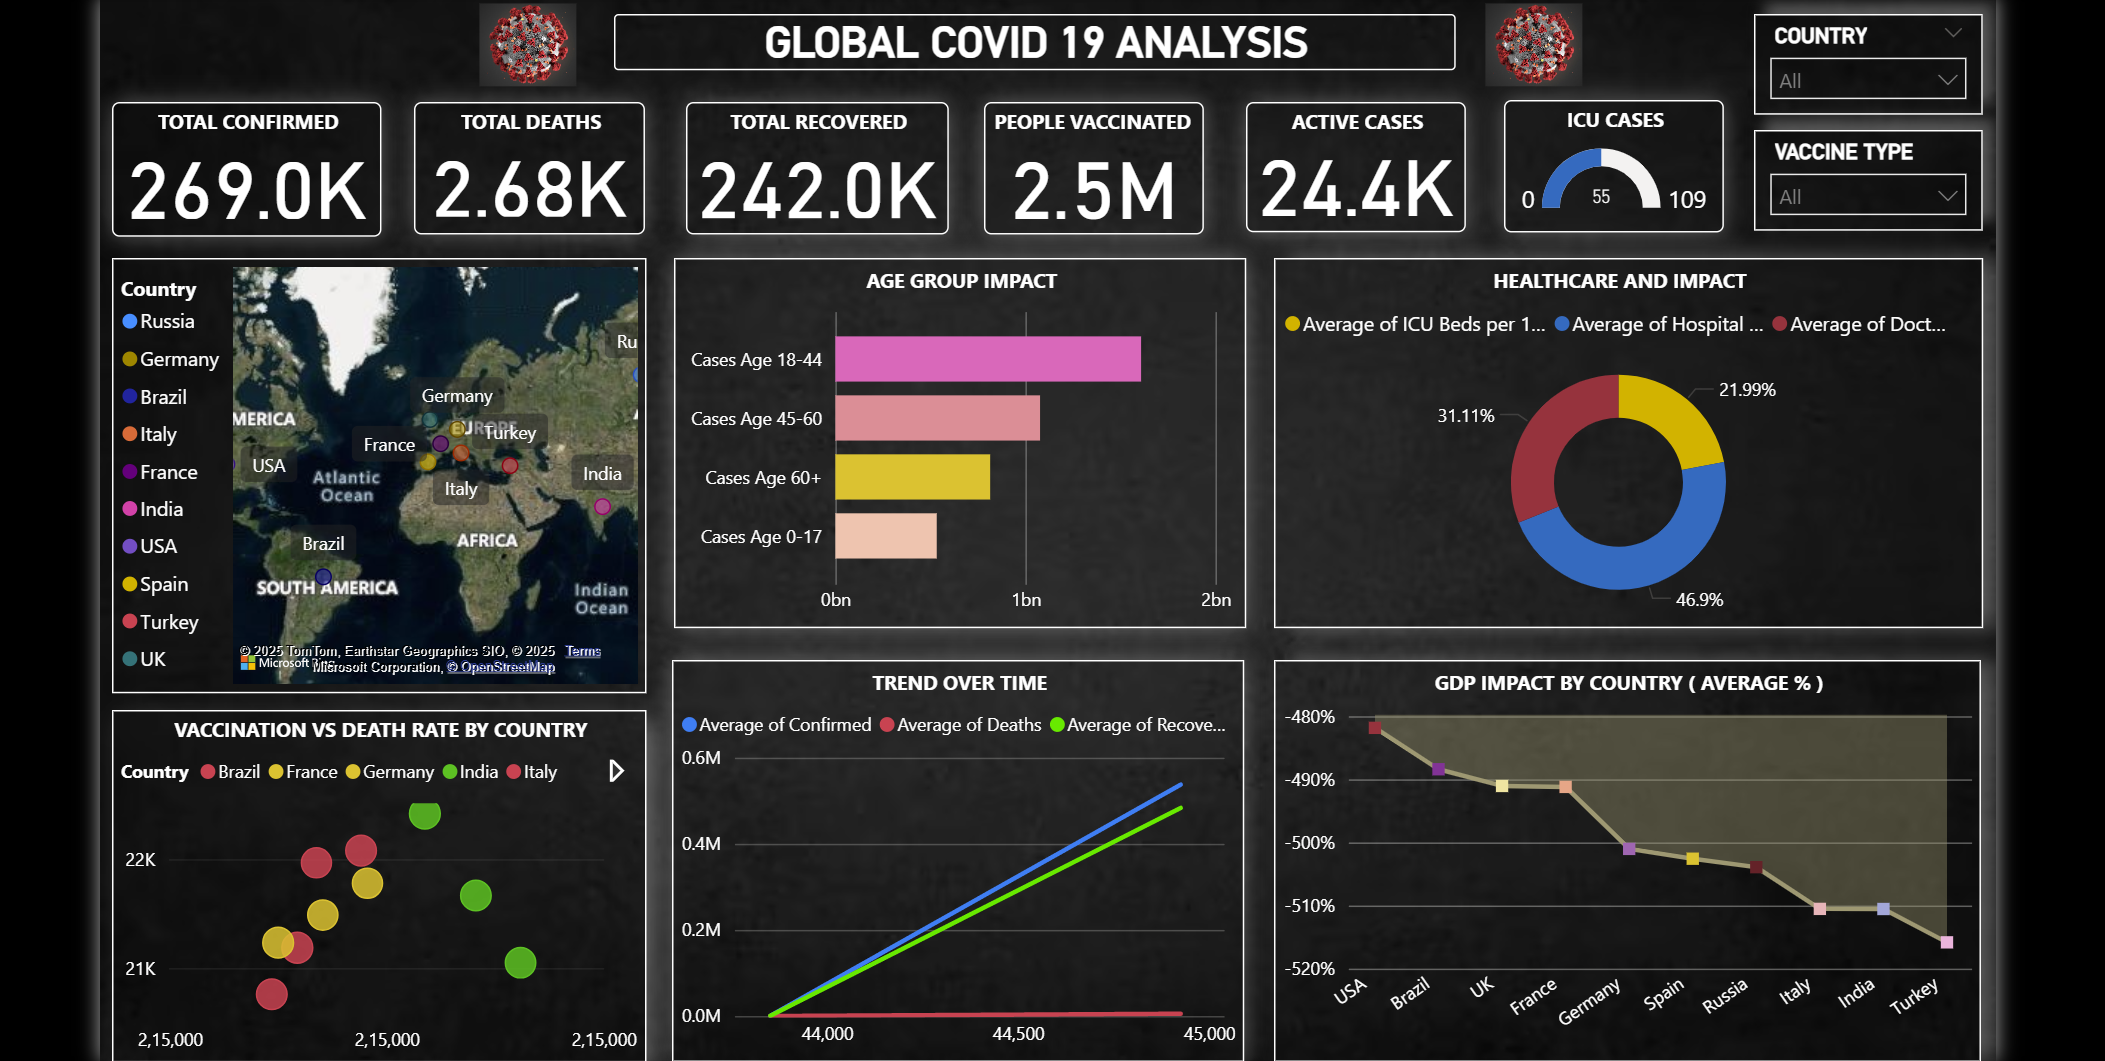

What the dashboard file says about the page in this screenshot:
{"tool":"powerbi","page":{"name":"Page 1","canvas":[1280,720],"ordinal":0},"visuals":[{"type":"card","fields":{"Values":["Avg(global_covid19_full_dashboard.Confirmed)"]},"box":[7.6,71.3,182,91],"z":0},{"type":"card","fields":{"Values":["Avg(global_covid19_full_dashboard.Deaths)"]},"box":[212.3,71.3,156.2,89.5],"z":1000},{"type":"card","fields":{"Values":["Avg(global_covid19_full_dashboard.Recovered)"]},"box":[395.8,71.3,177.4,89.5],"z":2000},{"type":"card","fields":{"Values":["Avg(global_covid19_full_dashboard.People Vaccinated)"]},"box":[597.5,71.3,148.6,89.5],"z":3000},{"type":"gauge","fields":{"Y":["Avg(global_covid19_full_dashboard.ICU)"]},"box":[947.9,69.8,148.6,89.5],"z":4000},{"type":"card","fields":{"Values":["Avg(global_covid19_full_dashboard.Active)"]},"box":[773.5,71.3,148.6,88],"z":5000},{"type":"slicer","fields":{"Values":["global_covid19_full_dashboard.Country"]},"box":[1117.7,12.1,154.7,68.2],"z":6000},{"type":"slicer","fields":{"Values":["global_covid19_full_dashboard.Vaccine Type"]},"box":[1117.7,91,154.7,68.2],"z":7000},{"type":"map","fields":{"Category":["global_covid19_full_dashboard.Country"],"Size":["Avg(global_covid19_full_dashboard.ICU)"],"Series":["global_covid19_full_dashboard.Country"]},"box":[7.6,177.4,360.9,294.2],"z":8000},{"type":"image","box":[250.8,0,75.4,66.2],"z":9000},{"type":"textbox","title":"GLOBAL COVID 19 ANALYSIS DASHBOARD","box":[347.3,12.1,568.7,37.9],"z":10000},{"type":"clusteredBarChart","fields":{"Y":["Sum(global_covid19_full_dashboard.Total Cases)"],"Category":["global_covid19_full_dashboard.Age Group"]},"box":[388.2,177.4,386.7,250.2],"z":11000},{"type":"lineChart","fields":{"Category":["global_covid19_full_dashboard.Date.Variation.Date Hierarchy.Year"],"Y":["Avg(global_covid19_full_dashboard.Confirmed)","Avg(global_covid19_full_dashboard.Deaths)","Avg(global_covid19_full_dashboard.Recovered)"]},"box":[386.7,448.9,386.7,271.5],"z":12000},{"type":"donutChart","fields":{"Y":["Avg(global_covid19_full_dashboard.ICU Beds per 1000)","Avg(global_covid19_full_dashboard.Hospital Beds per 1000)","Avg(global_covid19_full_dashboard.Doctors per 1000)"]},"box":[793.2,177.4,479.2,250.2],"z":13000},{"type":"image","box":[930.8,0,75.4,66.2],"z":14000},{"type":"areaChart","fields":{"Category":["global_covid19_full_dashboard.Country"],"Y":["Avg(global_covid19_full_dashboard.GDP Impact (%))"]},"box":[793.2,448.9,477.7,271.5],"z":15000},{"type":"scatterChart","fields":{"X":["Sum(global_covid19_full_dashboard.Vaccination Rate (%))"],"Y":["Sum(global_covid19_full_dashboard.Deaths Per Million)"],"Size":["Sum(global_covid19_full_dashboard.Population)"],"Series":["global_covid19_full_dashboard.Country"]},"box":[7.6,482.3,360.9,238.1],"z":16000}]}

Visuals, with their boxes on the page's 1280x720 design canvas (x1, y1, x2, y2). These are canvas units, not pixel positions in the 2105x1061 screenshot, which may show the page scaled, cropped or inside an application window:
card - Avg(global_covid19_full_dashboard.Confirmed): (8,71,190,162)
card - Avg(global_covid19_full_dashboard.Deaths): (212,71,368,161)
card - Avg(global_covid19_full_dashboard.Recovered): (396,71,573,161)
card - Avg(global_covid19_full_dashboard.People Vaccinated): (598,71,746,161)
gauge - Avg(global_covid19_full_dashboard.ICU): (948,70,1096,159)
card - Avg(global_covid19_full_dashboard.Active): (774,71,922,159)
slicer - global_covid19_full_dashboard.Country: (1118,12,1272,80)
slicer - global_covid19_full_dashboard.Vaccine Type: (1118,91,1272,159)
map - global_covid19_full_dashboard.Country x Avg(global_covid19_full_dashboard.ICU): (8,177,368,472)
image: (251,0,326,66)
"GLOBAL COVID 19 ANALYSIS DASHBOARD" textbox: (347,12,916,50)
clusteredBarChart - Sum(global_covid19_full_dashboard.Total Cases) x global_covid19_full_dashboard.Age Group: (388,177,775,428)
lineChart - global_covid19_full_dashboard.Date.Variation.Date Hierarchy.Year x Avg(global_covid19_full_dashboard.Confirmed): (387,449,773,720)
donutChart - Avg(global_covid19_full_dashboard.ICU Beds per 1000) x Avg(global_covid19_full_dashboard.Hospital Beds per 1000): (793,177,1272,428)
image: (931,0,1006,66)
areaChart - global_covid19_full_dashboard.Country x Avg(global_covid19_full_dashboard.GDP Impact (%)): (793,449,1271,720)
scatterChart - Sum(global_covid19_full_dashboard.Vaccination Rate (%)) x Sum(global_covid19_full_dashboard.Deaths Per Million): (8,482,368,720)
